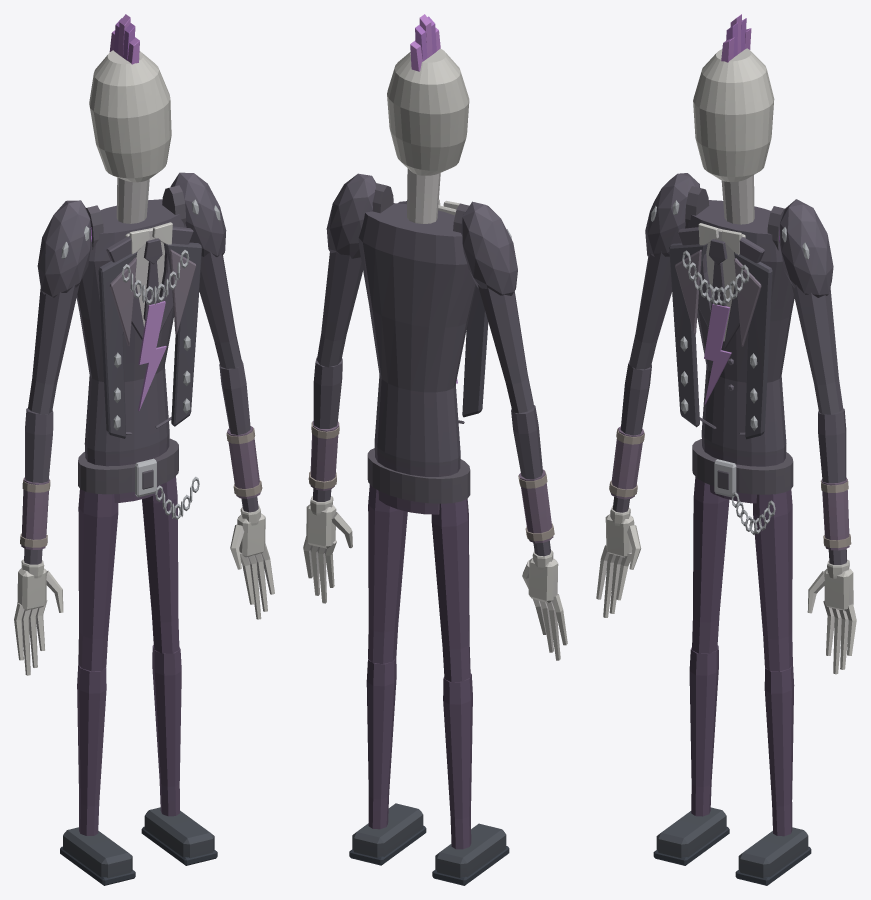
The model's file is SlendermanPunk.glb.
3 renders of one model, left to right at view 1: azimuth 30°, elevation 25°; view 2: azimuth 150°, elevation 25°; view 3: azimuth 330°, elevation 25°, orthographic.
Visible parts, largest first — view 1: Body, ArmR, LegR, ArmL, LegL, Head; view 2: Body, ArmR, LegR, ArmL, LegL, Head; view 3: Body, ArmL, LegL, ArmR, LegR, Head.
Part boxes in pixels (x1,y1,x2,y2): Body: [76, 177, 201, 519]; ArmR: [14, 200, 91, 675]; LegR: [60, 489, 135, 885]; ArmL: [170, 172, 274, 619]; LegL: [141, 476, 217, 865]; Head: [89, 14, 171, 182]; Body: [358, 168, 488, 514]; ArmR: [461, 201, 567, 660]; LegR: [431, 498, 509, 885]; ArmL: [303, 173, 376, 603]; LegL: [349, 484, 426, 865]; Head: [387, 14, 469, 175]; Body: [669, 175, 794, 534]; ArmL: [779, 199, 856, 674]; LegL: [735, 489, 811, 885]; ArmR: [596, 173, 699, 617]; LegR: [653, 477, 729, 865]; Head: [693, 14, 774, 182].
Size of the model in its own units: 2.68 by 8.38 by 0.8934.
